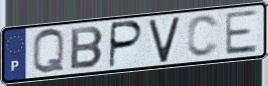B: (69, 25, 106, 71)
C: (186, 13, 222, 59)
E: (223, 8, 260, 57)
P: (107, 19, 146, 70)
Q: (31, 27, 67, 77)
V: (147, 14, 182, 64)
